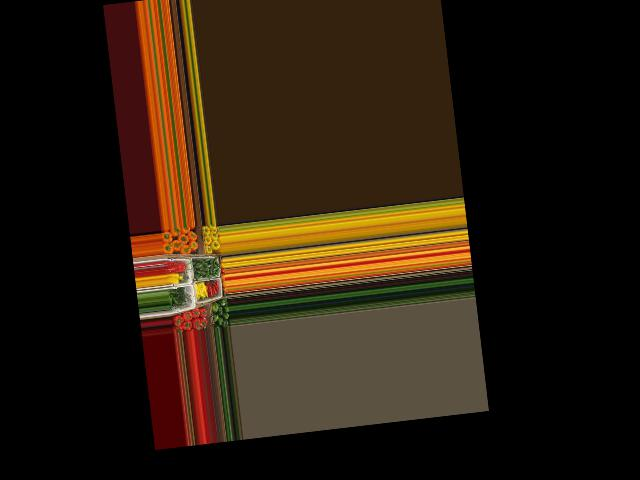bell_pepper: (210, 312, 222, 323)
